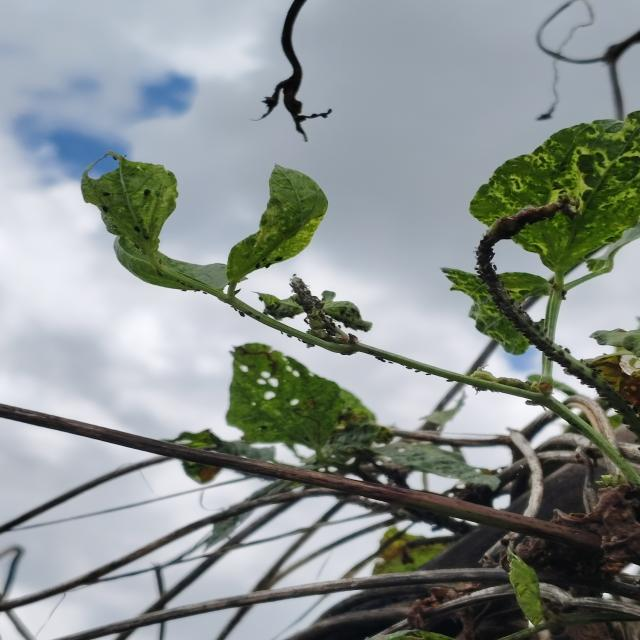leaf-moderate: (226, 343, 455, 487), (470, 111, 640, 272), (81, 151, 204, 291), (227, 165, 328, 295)
sitaw-aphid-moderate: (476, 195, 640, 436)
